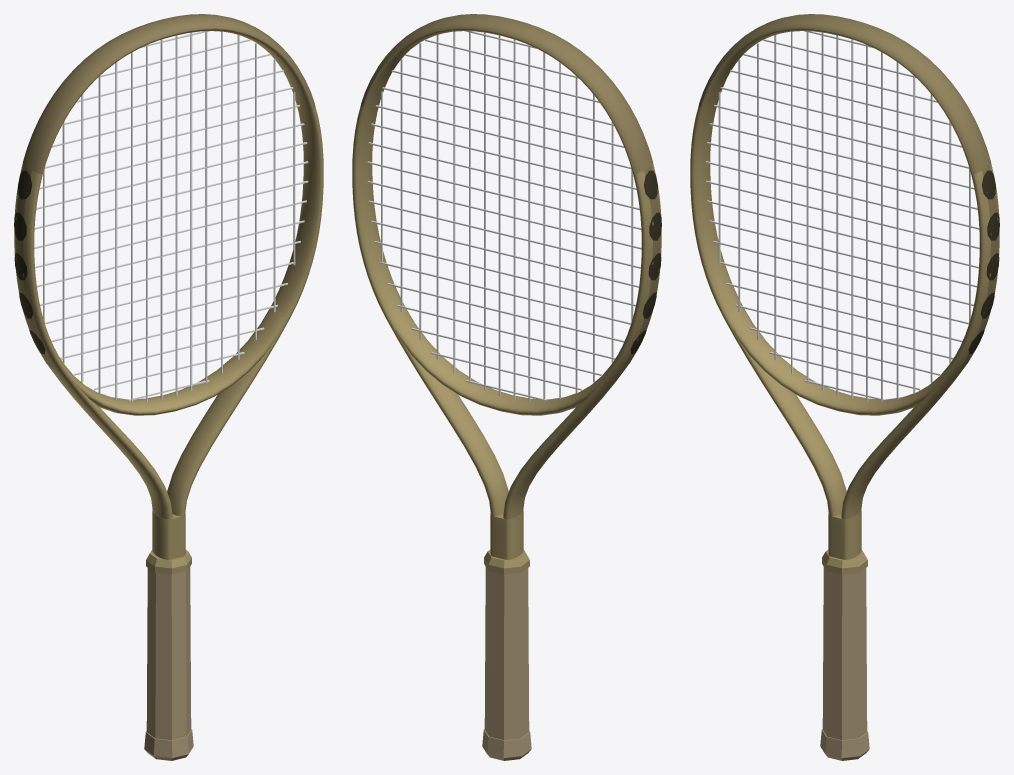
The model's file is prince-o3-legacy-120-2024.glb.
3 renders of one model, left to right at view 1: azimuth 30°, elevation 25°; view 2: azimuth 150°, elevation 25°; view 3: azimuth 330°, elevation 25°, orthographic.
Visible parts, largest first — view 1: frame, strings_mains, strings_crosses, grip, bumper, grommets, butt_cap, collar; view 2: frame, strings_mains, strings_crosses, grip, bumper, grommets, butt_cap, collar; view 3: frame, strings_mains, strings_crosses, grip, bumper, grommets, butt_cap, collar.
Boxes of the visible parts, x1,y1,x2,y2 form: frame: (14,28,323,559); strings_mains: (43,31,295,401); strings_crosses: (34,31,308,401); grip: (146,567,191,740); bumper: (23,14,314,174); grommets: (14,165,53,368); butt_cap: (144,729,193,760); collar: (146,550,191,574); frame: (352,28,661,559); strings_mains: (381,31,633,401); strings_crosses: (367,31,641,401); grip: (484,567,529,740); bumper: (361,14,652,174); grommets: (622,165,661,368); butt_cap: (482,729,531,760); collar: (484,550,529,574); frame: (690,28,999,559); strings_mains: (718,31,970,401); strings_crosses: (705,31,979,401); grip: (822,567,867,740); bumper: (699,14,990,174); grommets: (960,165,999,368); butt_cap: (820,729,869,760); collar: (822,550,867,574).
Bounding box in the file's own units: 0.2989 × 0.6924 × 0.0396.
